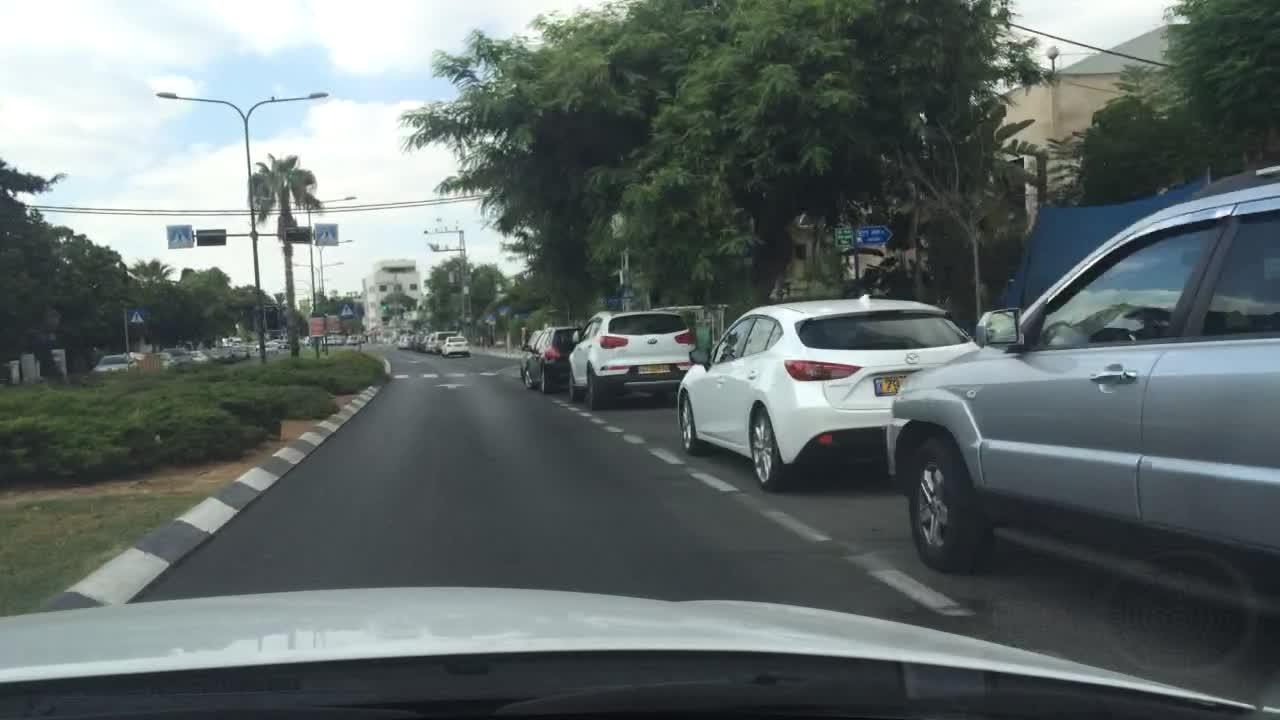Mazda: (897, 345, 928, 370)
